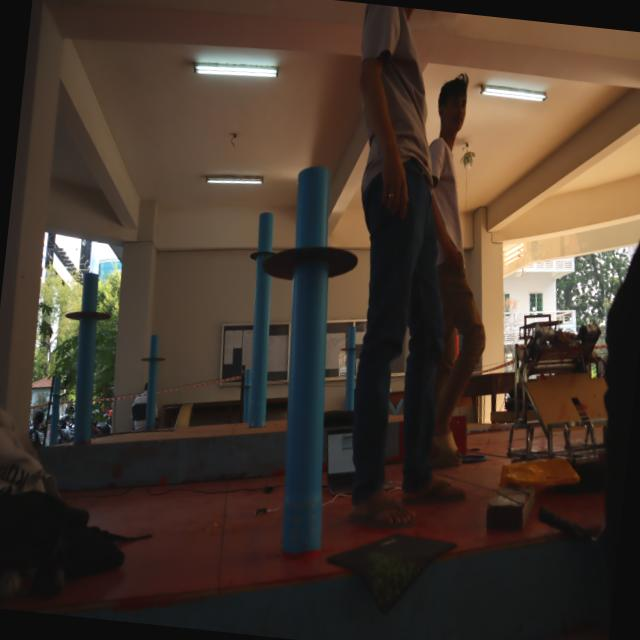pole: (258, 154, 379, 320), (50, 268, 124, 346), (246, 211, 286, 281), (137, 328, 173, 385)
